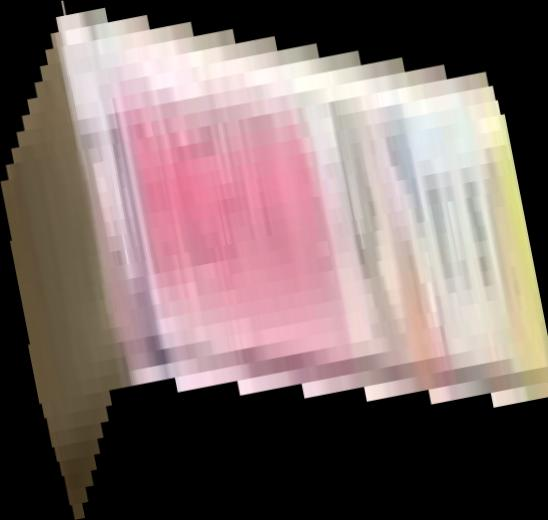flat: (1, 1, 548, 520)
